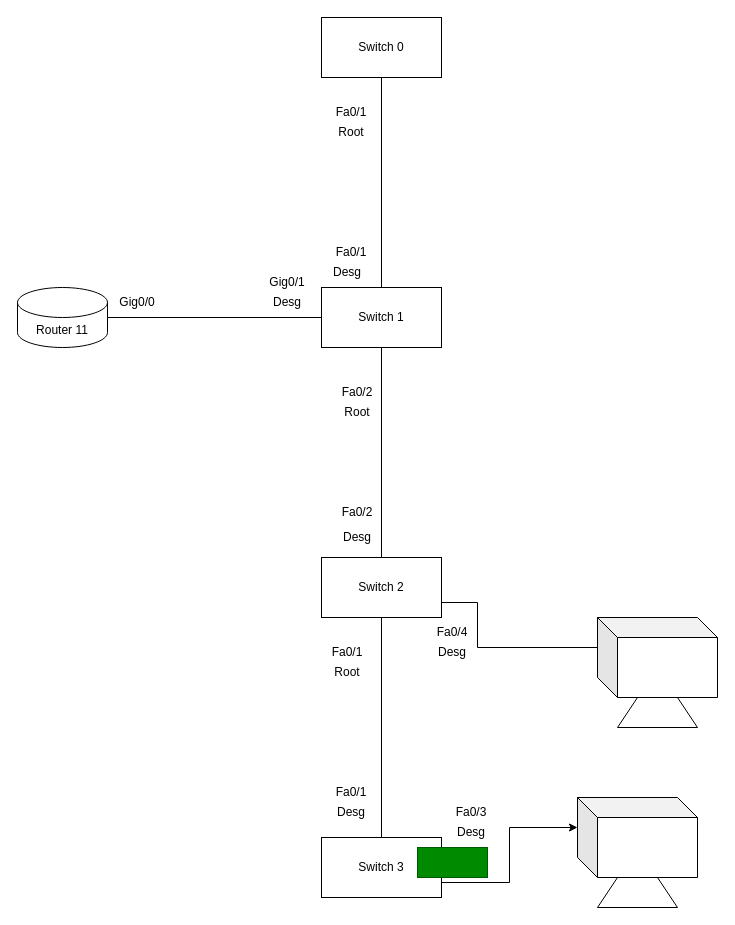
Image size: 735x925. Some labels were removed from this diagram. The centre of each missing label's shape, as x and y in pixels:
"PC 5" goes at pixel 657 657.
"PC 8" goes at pixel 637 837.
"Root Bridge" goes at pixel 452 862.
